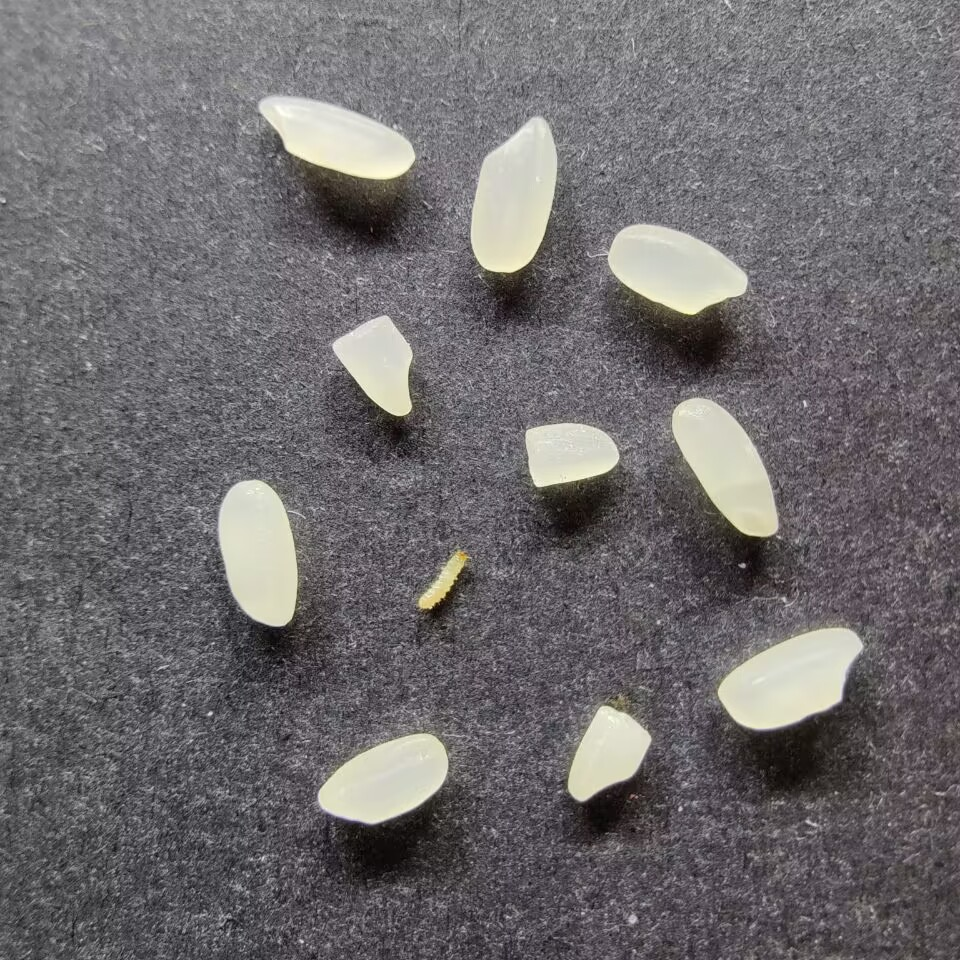broken: (330, 314, 416, 416), (566, 704, 652, 803), (522, 423, 619, 487)
others: (416, 545, 469, 613)
rice: (670, 396, 779, 537), (717, 626, 863, 730), (469, 115, 557, 273), (256, 94, 416, 180), (607, 223, 747, 316), (317, 732, 448, 825), (217, 479, 297, 628)
